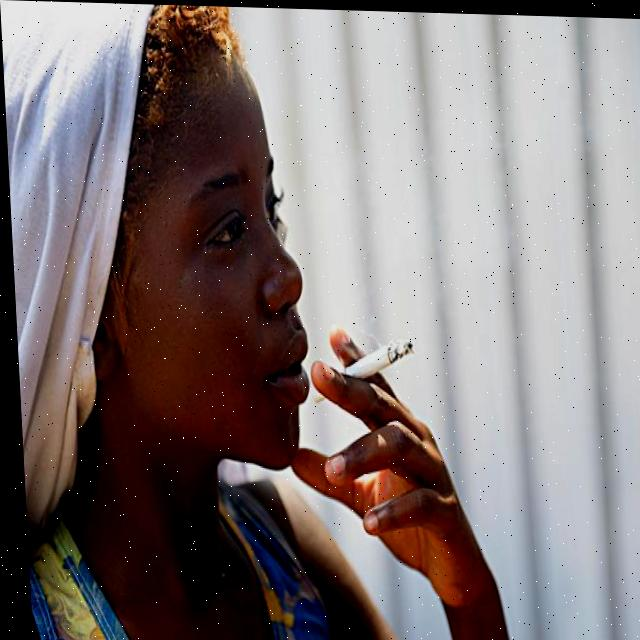cigarette: (335, 336, 409, 376)
